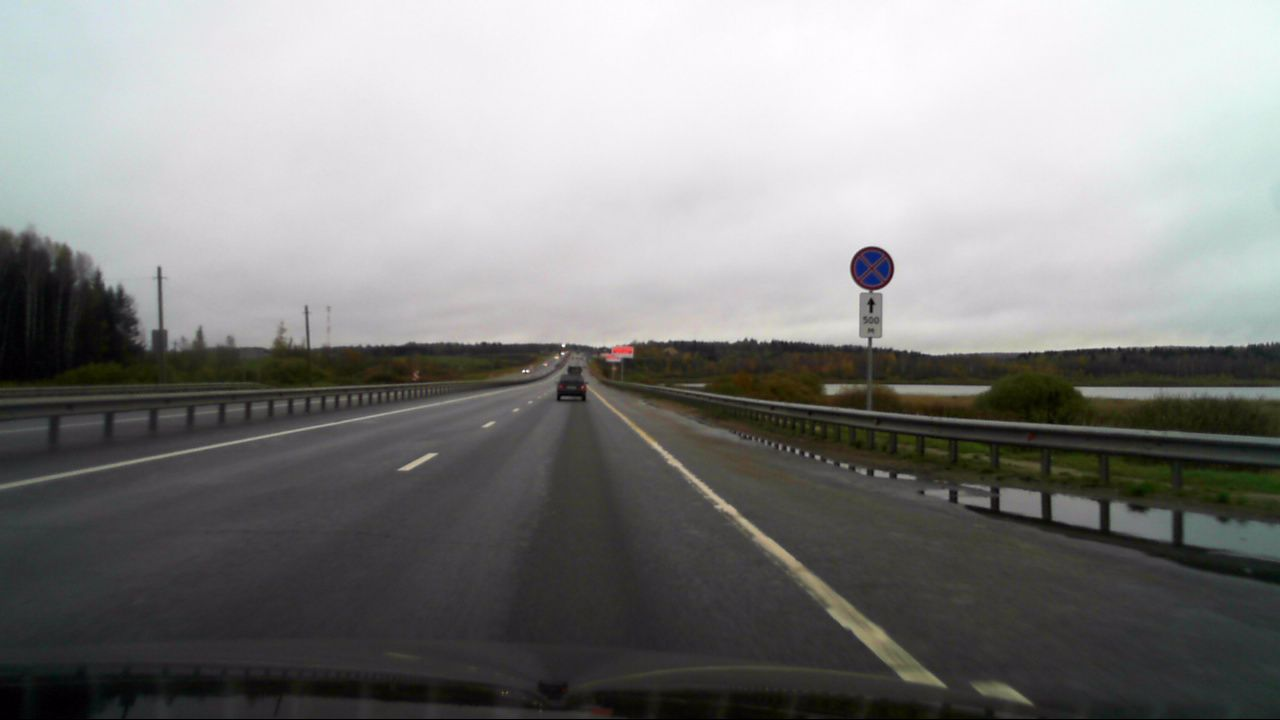No Parking: (850, 246, 894, 290)
